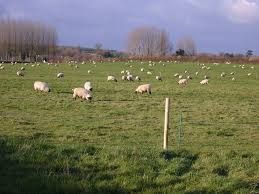sheep: (131, 82, 157, 98), (73, 87, 94, 103), (32, 80, 52, 93), (174, 76, 190, 88), (103, 72, 115, 83), (132, 73, 142, 82), (56, 72, 67, 80), (156, 74, 167, 82), (221, 71, 231, 79), (83, 81, 91, 90), (149, 60, 157, 68), (16, 70, 25, 77), (202, 78, 209, 87), (126, 75, 133, 83), (247, 71, 255, 78), (231, 77, 238, 83), (22, 66, 28, 72), (121, 75, 128, 80), (250, 65, 255, 72), (146, 71, 152, 76)
